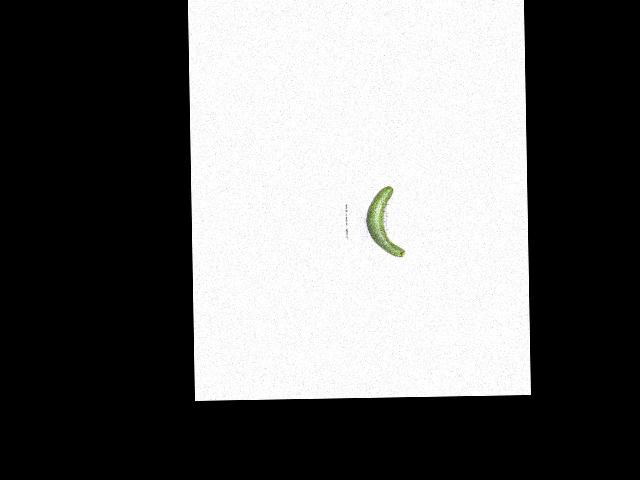cucumber: (365, 186, 405, 258)
